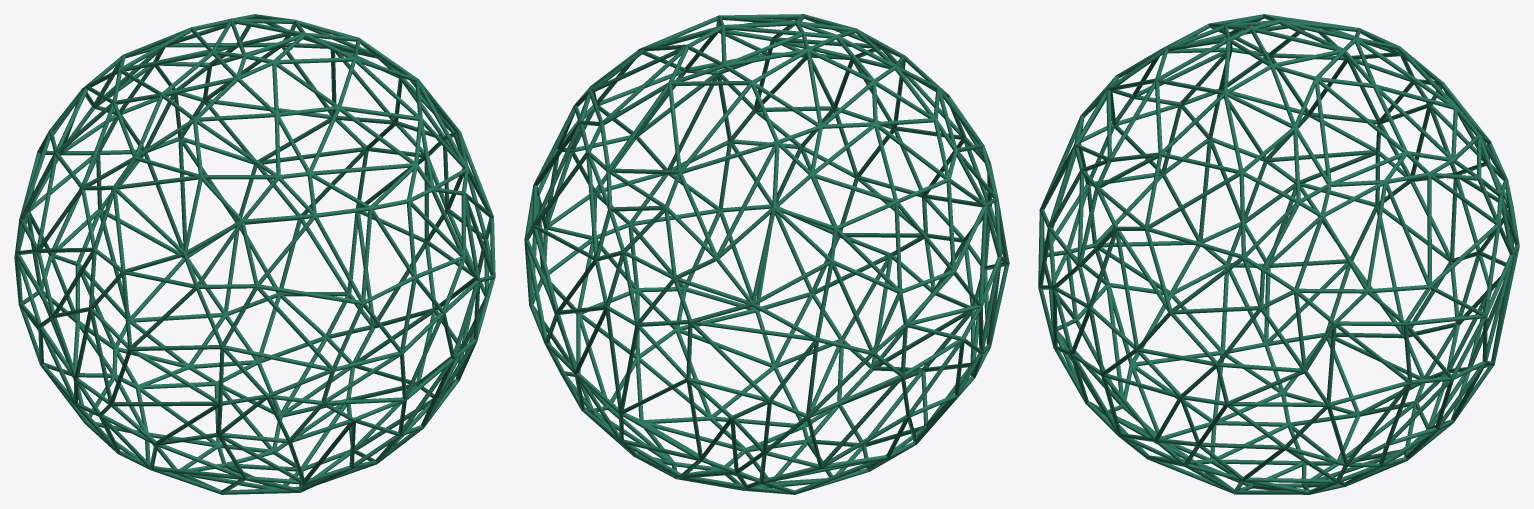
File: orbit.glb
The picture shows the model from 3 angles, left to right: view 1: azimuth 30°, elevation 25°; view 2: azimuth 150°, elevation 25°; view 3: azimuth 270°, elevation 25°; orthographic projection.
Visible parts, largest first — view 1: Orbit; view 2: Orbit; view 3: Orbit.
Part boxes in pixels (x1,y1,x2,y2): Orbit: (14,14,495,494); Orbit: (524,14,1009,494); Orbit: (1038,14,1519,494).
Bounding box in the file's own units: 2.01 × 2 × 2.
